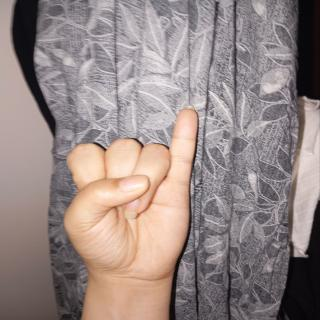MEEM: (57, 102, 214, 302)
